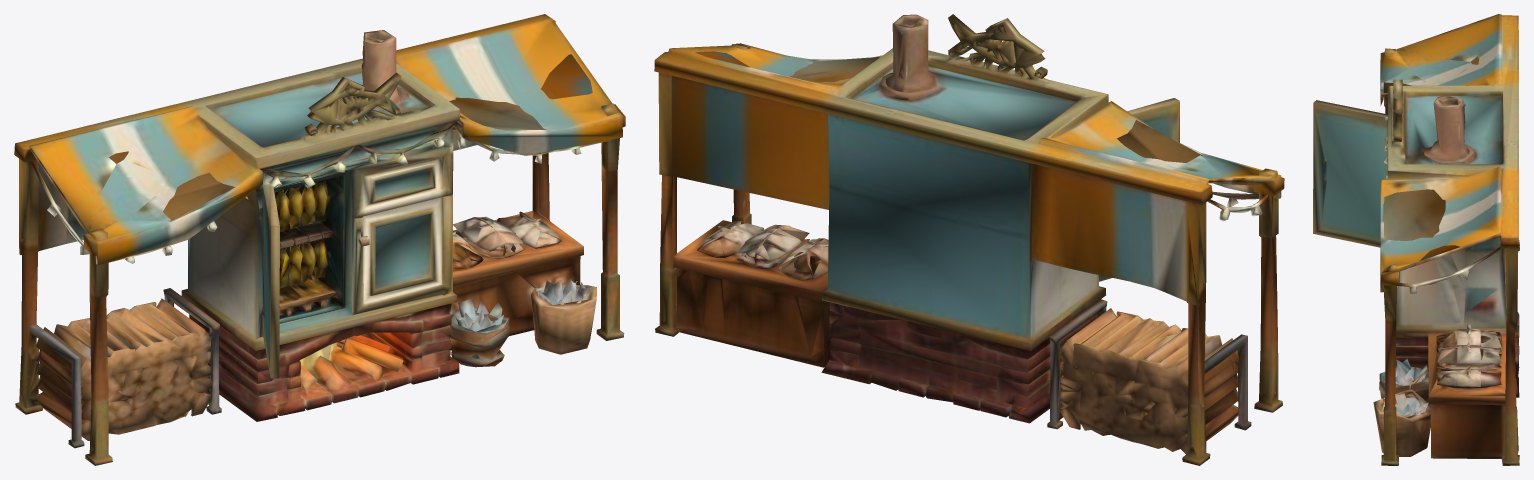
Rendered from xunyu-3.glb.
The picture shows the model from 3 angles, left to right: view 1: azimuth 30°, elevation 25°; view 2: azimuth 150°, elevation 25°; view 3: azimuth 270°, elevation 25°; orthographic projection. The views are drawn at different scales.
Parts seen in each view (by area): view 1: node_0; view 2: node_0; view 3: node_0.
Boxes of the visible parts, box(x1,y1,x2,y2) form: node_0: box(14, 14, 625, 465); node_0: box(654, 14, 1284, 465); node_0: box(1313, 14, 1519, 465).
Size of the model in its own units: 0.989 by 0.5789 by 0.3865.
1 material, 1 textured.
